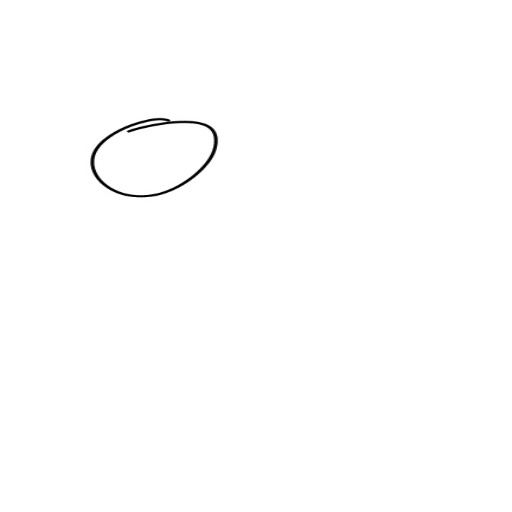circle: (84, 114, 228, 201)
